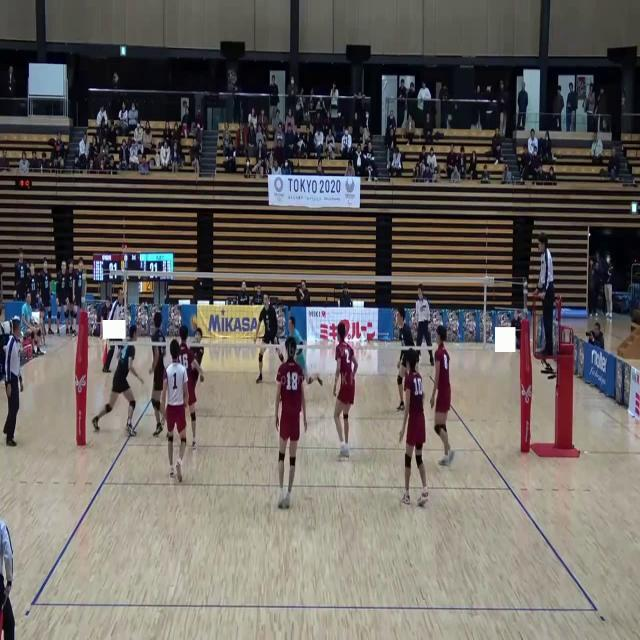volleyball: (192, 318, 200, 330)
